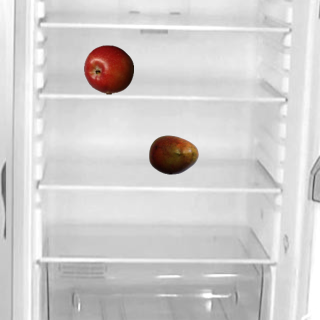Apple Braeburn: (83, 44, 133, 94)
Mango Red: (148, 129, 198, 179)
